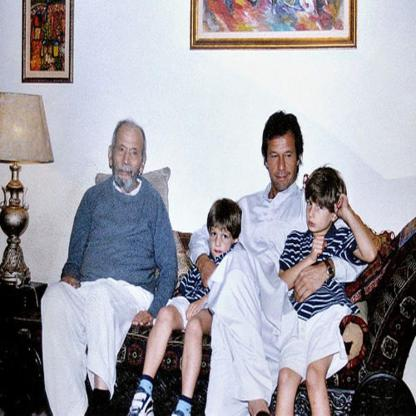face: (113, 136, 143, 184), (269, 141, 298, 190), (307, 196, 332, 232), (212, 227, 234, 259)
